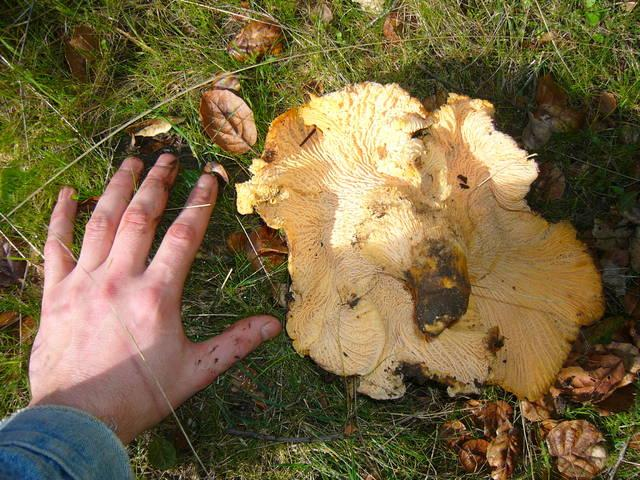edible_mushroom: (234, 79, 606, 403)
